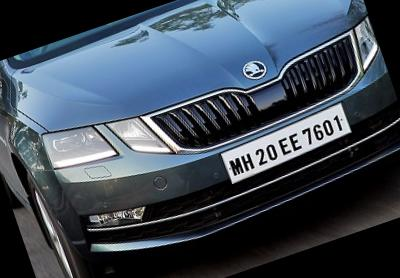plate: (213, 104, 364, 189)
